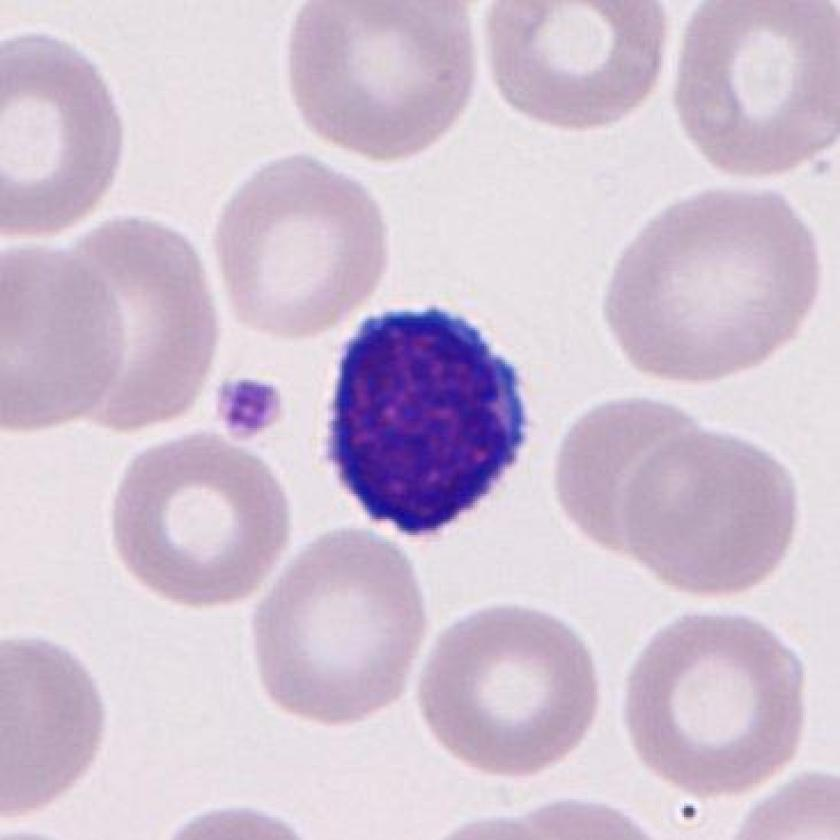lymphocyte: (313, 290, 538, 557)
platelets: (207, 373, 295, 449)
